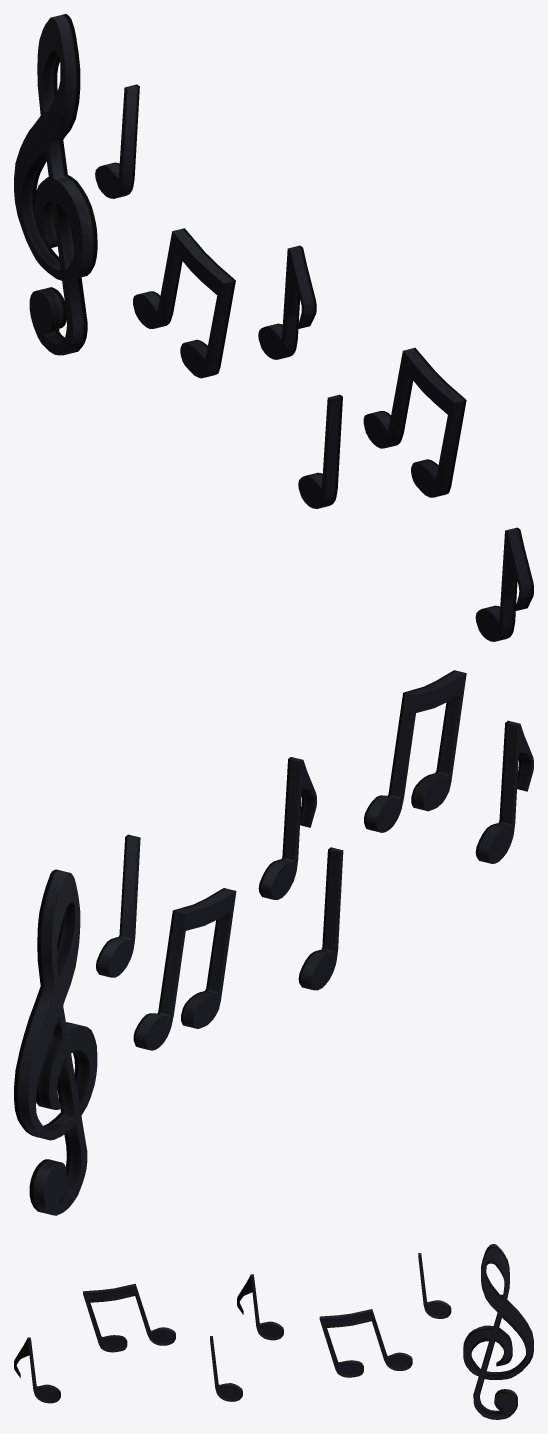
The model's file is Symbols.obj.
The picture shows the model from 3 angles, top to bottom: view 1: azimuth 30°, elevation 25°; view 2: azimuth 150°, elevation 25°; view 3: azimuth 270°, elevation 25°; orthographic projection. The views are drawn at different scales.
Parts seen in each view (by area): view 1: Object_34; view 2: Object_34; view 3: Object_34.
Part boxes in pixels (bbox=[...]): Object_34: bbox=[14, 14, 533, 641]; Object_34: bbox=[14, 670, 533, 1215]; Object_34: bbox=[14, 1244, 533, 1419].
Bounding box in the file's own units: 0.0357 × 0.7857 × 2.15.
Materials: 1 (1 with a texture image).
